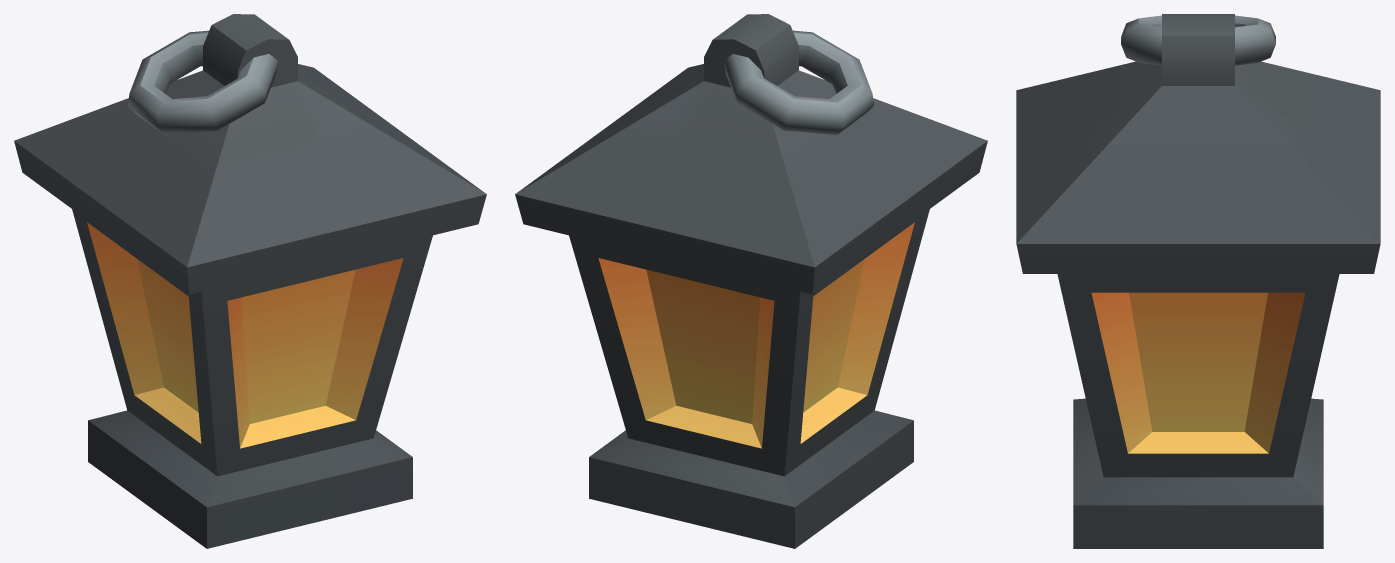
Rendered from kay-lanterna.gltf.
3 renders of one model, left to right at view 1: azimuth 30°, elevation 25°; view 2: azimuth 150°, elevation 25°; view 3: azimuth 270°, elevation 25°, orthographic. The views are drawn at different scales.
Parts seen in each view (by area): view 1: lantern_standing; view 2: lantern_standing; view 3: lantern_standing.
Boxes of the visible parts, x1,y1,x2,y2 form: lantern_standing: [14, 14, 486, 548]; lantern_standing: [515, 14, 987, 548]; lantern_standing: [1016, 14, 1380, 548].
Size of the model in its own units: 0.32 by 0.4626 by 0.32.
Materials: 1 (1 with a texture image).
